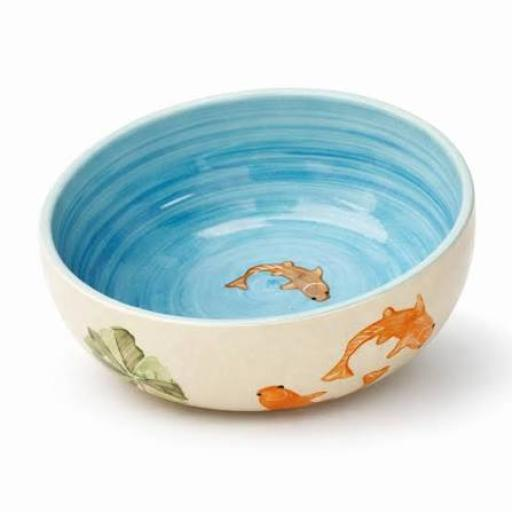Bowl: (41, 90, 474, 411)
